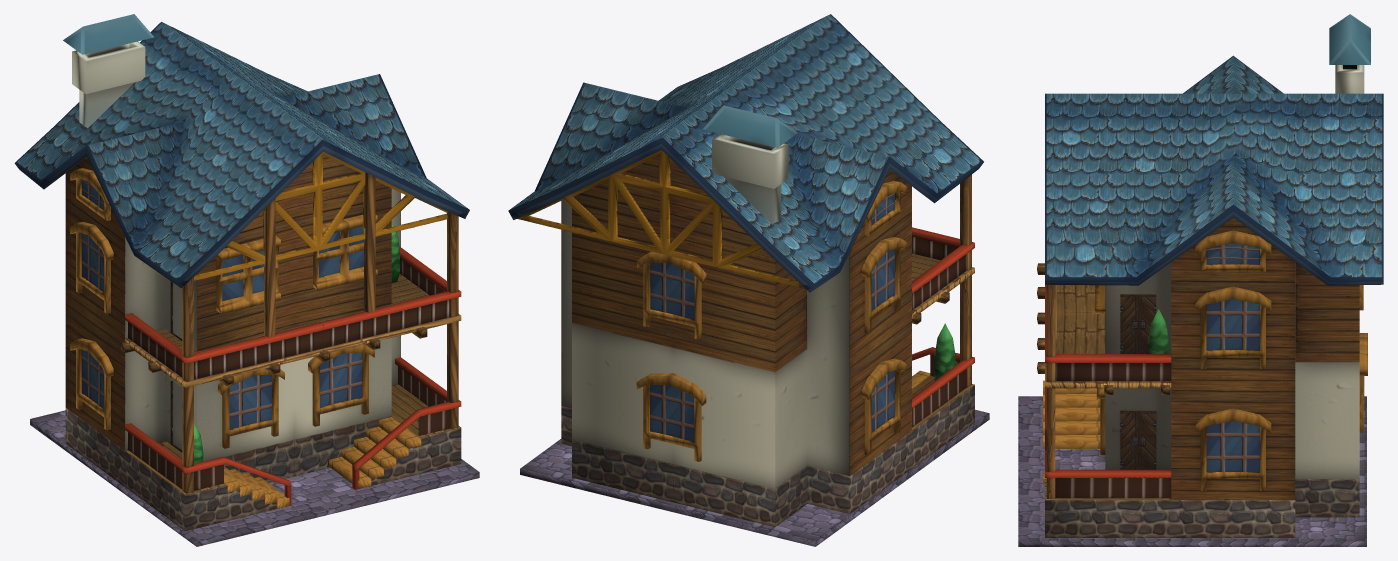
The picture shows the model from 3 angles, left to right: view 1: azimuth 30°, elevation 25°; view 2: azimuth 150°, elevation 25°; view 3: azimuth 270°, elevation 25°; orthographic projection. The views are drawn at different scales.
Parts seen in each view (by area): view 1: Haus3; view 2: Haus3; view 3: Haus3.
Boxes of the visible parts, bbox=[...] form: Haus3: bbox=[14, 14, 479, 546]; Haus3: bbox=[508, 14, 989, 546]; Haus3: bbox=[1018, 14, 1383, 546].
Size of the model in its own units: 16.33 by 20.91 by 16.83.
2 materials, 2 textured.
